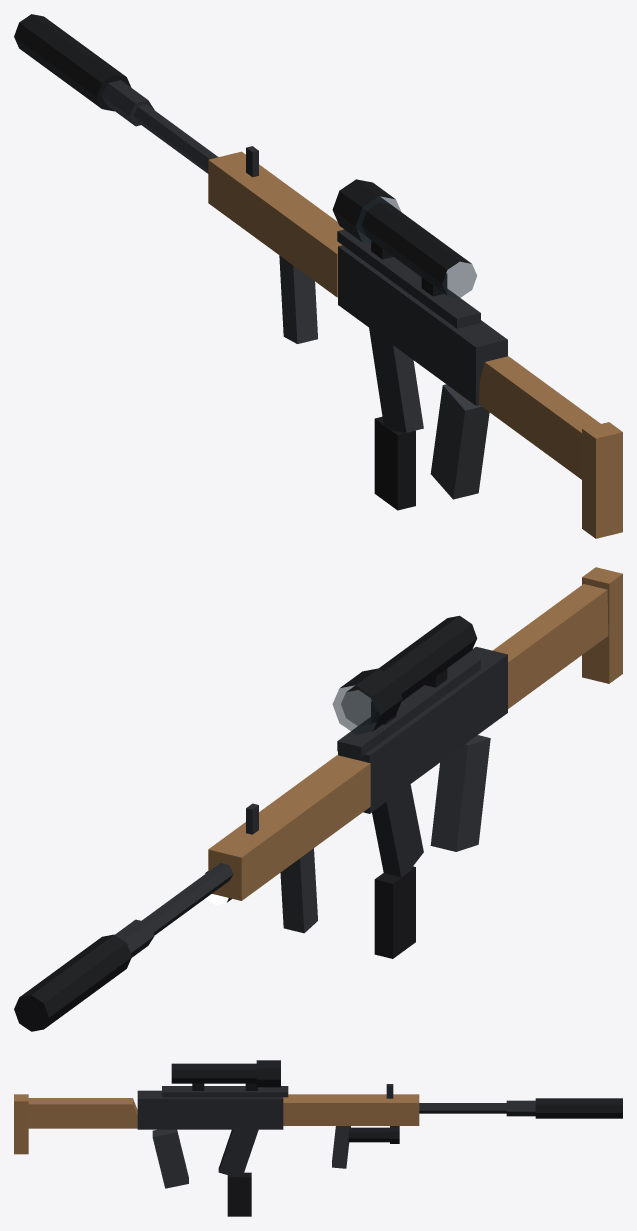
The model's file is w_assault_rifle.glb.
The picture shows the model from 3 angles, top to bottom: view 1: azimuth 30°, elevation 25°; view 2: azimuth 150°, elevation 25°; view 3: azimuth 270°, elevation 25°; orthographic projection. The views are drawn at different scales.
Visible parts, largest first — view 1: w_assault_rifle, w_assault_rifle_att_scope, w_assault_rifle_att_suppressor, w_assault_rifle_att_extmag, w_assault_rifle_att_grip; view 2: w_assault_rifle, w_assault_rifle_att_scope, w_assault_rifle_att_suppressor, w_assault_rifle_att_extmag, w_assault_rifle_att_grip; view 3: w_assault_rifle, w_assault_rifle_att_scope, w_assault_rifle_att_suppressor, w_assault_rifle_att_extmag, w_assault_rifle_att_flashlight, w_assault_rifle_att_grip.
Part boxes in pixels (x1,y1,x2,y2): w_assault_rifle: [102, 80, 622, 538]; w_assault_rifle_att_scope: [332, 179, 476, 298]; w_assault_rifle_att_suppressor: [14, 14, 131, 111]; w_assault_rifle_att_extmag: [374, 416, 415, 510]; w_assault_rifle_att_grip: [279, 255, 317, 343]; w_assault_rifle: [115, 567, 622, 957]; w_assault_rifle_att_scope: [332, 615, 477, 734]; w_assault_rifle_att_suppressor: [14, 934, 131, 1031]; w_assault_rifle_att_extmag: [374, 866, 415, 958]; w_assault_rifle_att_grip: [280, 848, 317, 933]; w_assault_rifle: [14, 1084, 535, 1188]; w_assault_rifle_att_scope: [171, 1060, 280, 1090]; w_assault_rifle_att_suppressor: [535, 1098, 622, 1118]; w_assault_rifle_att_extmag: [227, 1172, 251, 1216]; w_assault_rifle_att_flashlight: [348, 1126, 399, 1143]; w_assault_rifle_att_grip: [332, 1126, 350, 1168].
Bounding box in the file's own units: 0.0847 × 0.3497 × 1.25.
